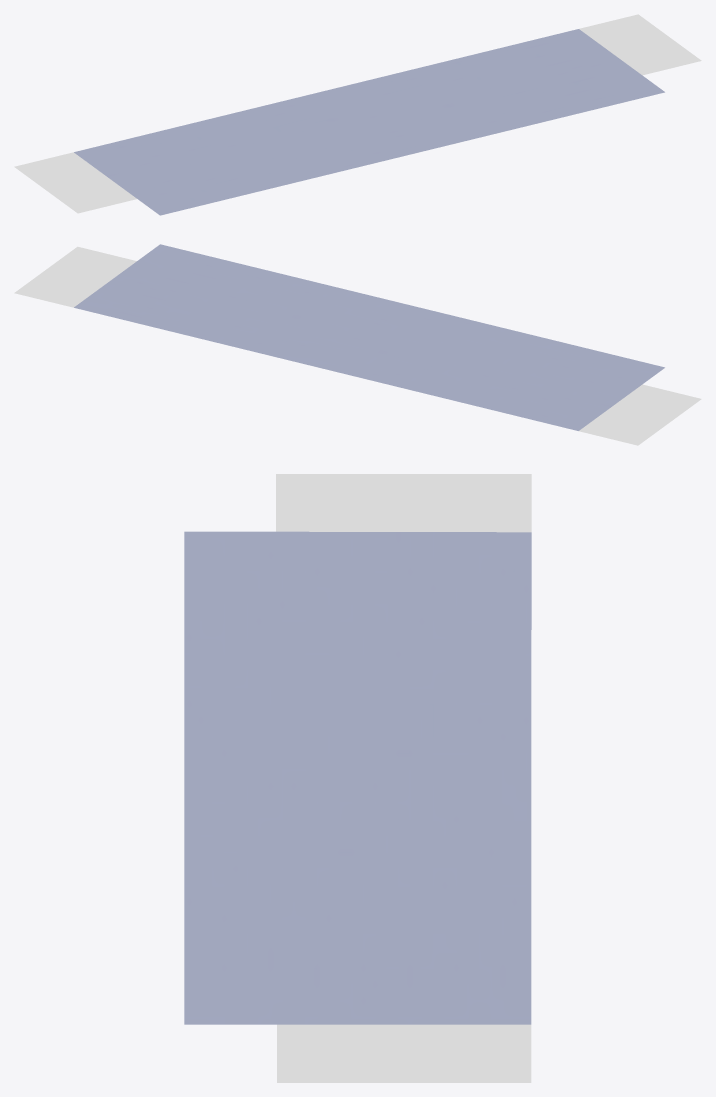
Rendered from ml_roof.glb.
3 renders of one model, top to bottom at view 1: azimuth 30°, elevation 25°; view 2: azimuth 150°, elevation 25°; view 3: azimuth 270°, elevation 25°, orthographic. The views are drawn at different scales.
Parts seen in each view (by area): view 1: Plane.001; view 2: Plane.001; view 3: Plane.001.
Boxes of the visible parts, bbox=[...] form: Plane.001: bbox=[14, 14, 701, 215]; Plane.001: bbox=[14, 244, 701, 445]; Plane.001: bbox=[184, 474, 531, 1082].
Bounding box in the file's own units: 73.36 × 0.0232 × 17.66.
2 materials, 1 textured.
